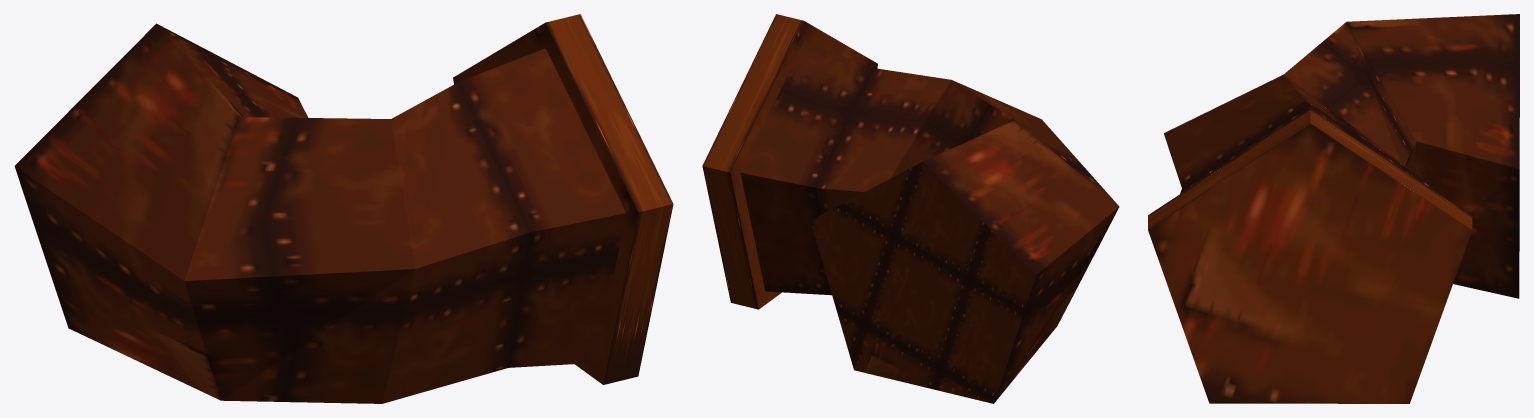
File: Rohr_StückKurve_87.glb
The picture shows the model from 3 angles, left to right: view 1: azimuth 30°, elevation 25°; view 2: azimuth 150°, elevation 25°; view 3: azimuth 270°, elevation 25°; orthographic projection. The views are drawn at different scales.
Visible parts, largest first — view 1: pCylinderShape79, pCylinderShape78; view 2: pCylinderShape79, pCylinderShape78; view 3: pCylinderShape78, pCylinderShape79.
Part boxes in pixels (x1=…): pCylinderShape79: x1=14, y1=23, x2=626, y2=403; pCylinderShape78: x1=453, y1=14, x2=673, y2=384; pCylinderShape79: x1=740, y1=41, x2=1119, y2=403; pCylinderShape78: x1=702, y1=14, x2=877, y2=309; pCylinderShape78: x1=1148, y1=108, x2=1472, y2=403; pCylinderShape79: x1=1164, y1=14, x2=1519, y2=298.
Size of the model in its own units: 1.11 by 0.7657 by 0.9207.
Materials: 2 (2 with a texture image).
